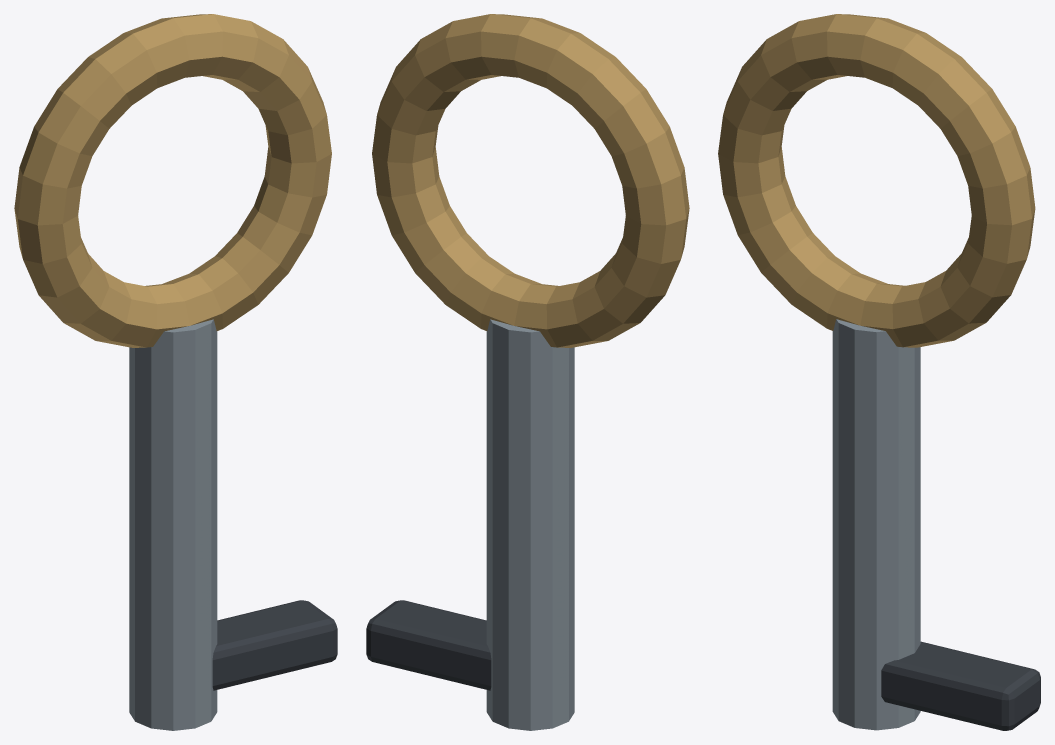
3 renders of one model, left to right at view 1: azimuth 30°, elevation 25°; view 2: azimuth 150°, elevation 25°; view 3: azimuth 330°, elevation 25°, orthographic.
Visible parts, largest first — view 1: TV-161 Porter Key; view 2: TV-161 Porter Key; view 3: TV-161 Porter Key.
Part boxes in pixels (x1,y1,x2,y2): TV-161 Porter Key: [14, 14, 337, 730]; TV-161 Porter Key: [366, 14, 689, 730]; TV-161 Porter Key: [718, 14, 1040, 730].
Size of the model in its own units: 0.098 by 0.209 by 0.024.
